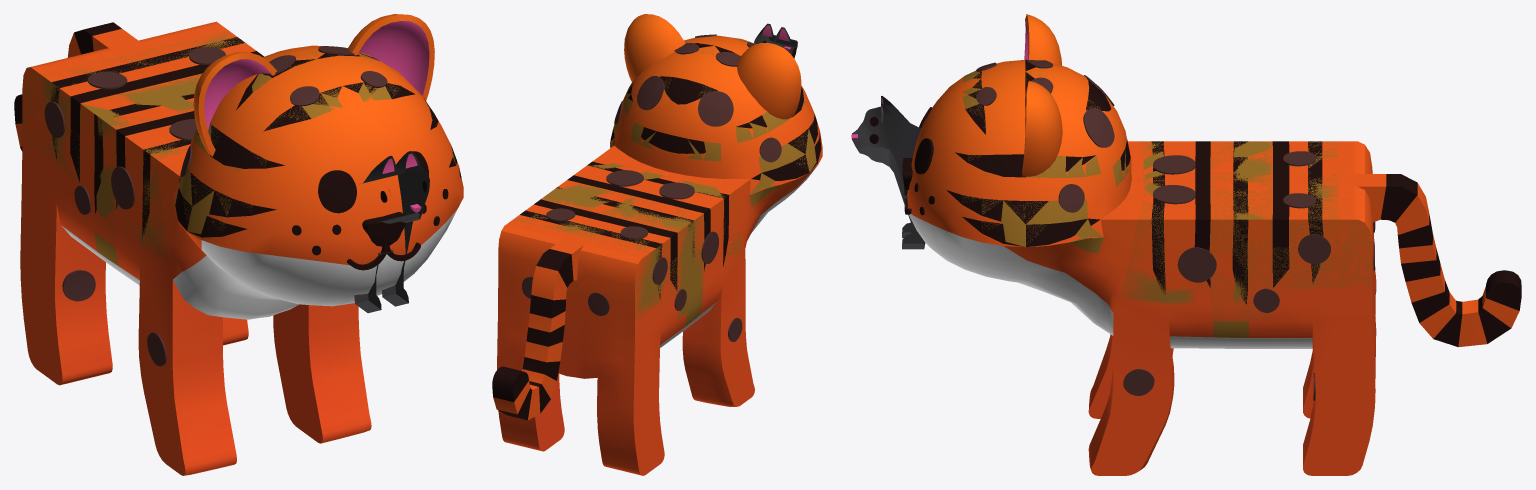
File: Mammals.gltf
3 renders of one model, left to right at view 1: azimuth 30°, elevation 25°; view 2: azimuth 150°, elevation 25°; view 3: azimuth 270°, elevation 25°, orthographic. The views are drawn at different scales.
Parts seen in each view (by area): view 1: Cube.6206, Cube.6208, Cube.6205, Circle.1878, Plane.129, Circle.1870, Circle.1871, Circle.1873; view 2: Cube.6206, Cube.6208, Circle.1878, Cube.6205, Plane.129; view 3: Cube.6206, Cube.6208, Circle.1878, Cube.6205, Plane.129.
Part boxes in pixels (<box>): Cube.6206: <box>14,21,463,475</box>; Cube.6208: <box>22,30,455,277</box>; Cube.6205: <box>193,14,434,156</box>; Circle.1878: <box>44,46,387,366</box>; Plane.129: <box>354,151,429,313</box>; Circle.1870: <box>318,151,428,213</box>; Circle.1871: <box>362,212,406,246</box>; Circle.1873: <box>347,242,420,270</box>; Cube.6206: <box>492,35,822,475</box>; Cube.6208: <box>514,39,818,334</box>; Circle.1878: <box>522,34,781,341</box>; Cube.6205: <box>624,14,801,119</box>; Plane.129: <box>754,23,797,58</box>; Cube.6206: <box>907,59,1521,475</box>; Cube.6208: <box>962,69,1372,348</box>; Circle.1878: <box>976,59,1375,400</box>; Cube.6205: <box>1022,14,1062,176</box>; Plane.129: <box>852,96,925,249</box>.
Size of the model in its own units: 1.71 by 2.83 by 4.46.
7 materials, 1 textured.
